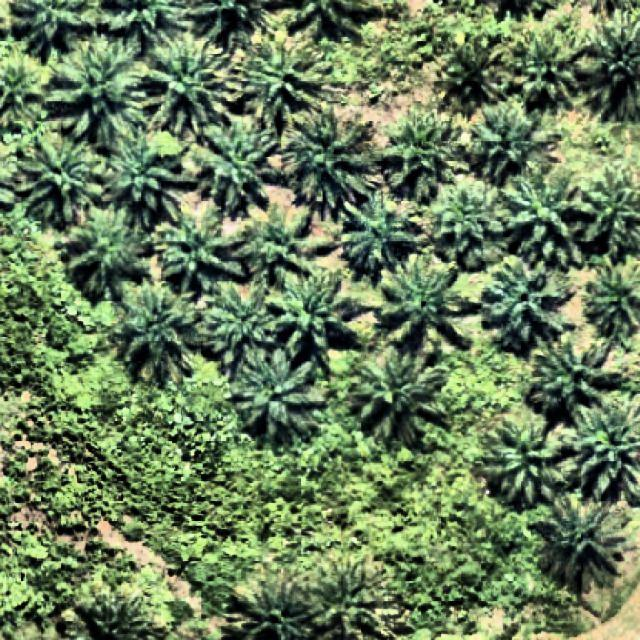Kelapa_Sawit: (42, 28, 147, 150), (266, 269, 379, 371), (379, 242, 481, 353), (528, 492, 632, 597), (282, 103, 380, 212), (354, 341, 452, 450), (230, 33, 332, 133), (98, 133, 200, 230), (523, 331, 626, 424), (232, 344, 328, 442), (188, 118, 282, 218), (142, 31, 232, 135), (482, 253, 578, 349), (482, 414, 576, 508), (64, 202, 150, 304), (381, 109, 470, 205), (498, 172, 587, 268), (151, 207, 247, 295), (112, 286, 200, 382), (11, 130, 94, 230), (429, 179, 514, 272), (466, 96, 548, 189), (198, 276, 278, 370), (248, 200, 336, 283), (336, 198, 429, 276), (519, 32, 579, 111), (440, 42, 506, 104)
